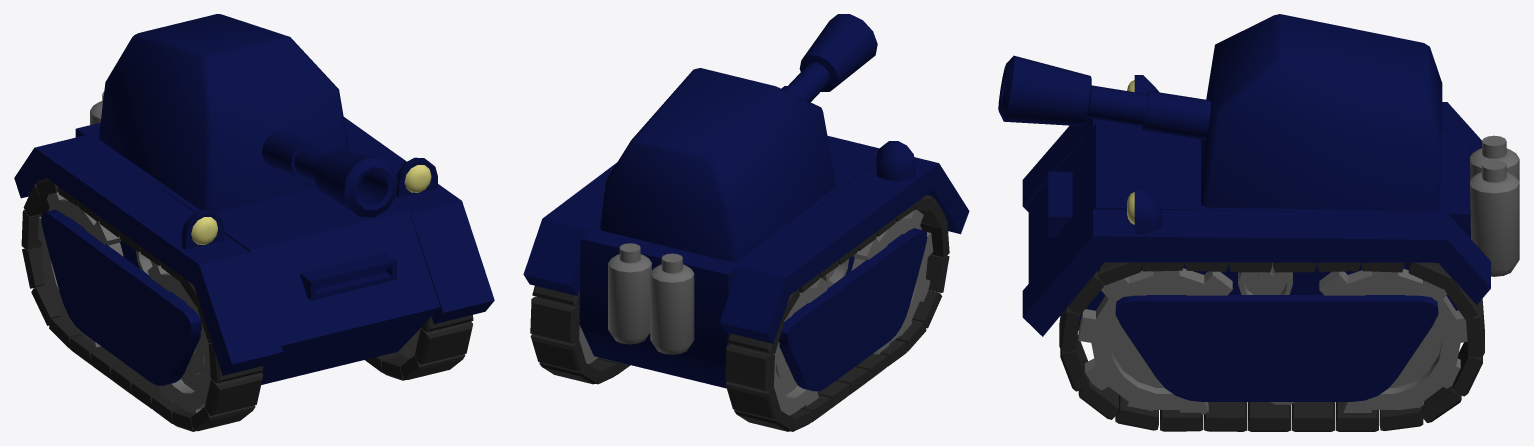
Rendered from Tank.FBX.
3 renders of one model, left to right at view 1: azimuth 30°, elevation 25°; view 2: azimuth 150°, elevation 25°; view 3: azimuth 270°, elevation 25°, orthographic. The views are drawn at different scales.
Parts seen in each view (by area): view 1: Tank_Jugador_2; view 2: Tank_Jugador_2; view 3: Tank_Jugador_2.
Part boxes in pixels (left/top/right/bottom): Tank_Jugador_2: left=14, top=14, right=494, bottom=431; Tank_Jugador_2: left=523, top=14, right=969, bottom=431; Tank_Jugador_2: left=998, top=14, right=1519, bottom=431.
Bounding box in the file's own units: 150 × 168 × 240.
